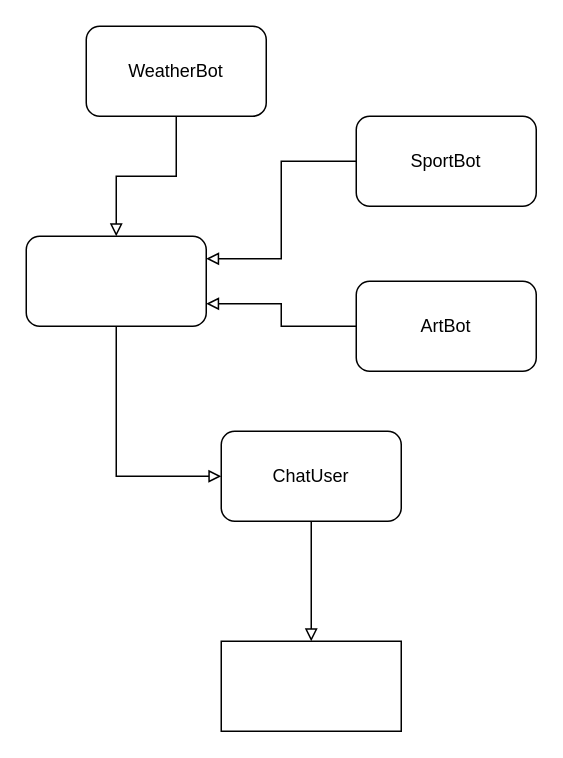
Some shapes in this 563 by 758 pixel diagram are drawn without their labels. The shapes that lost their labels are listed below. From the top down, each one's centre as x and y in pixels, then its label:
At pixel 115 280: "ChatBot".
At pixel 310 685: "threading.Thread".
